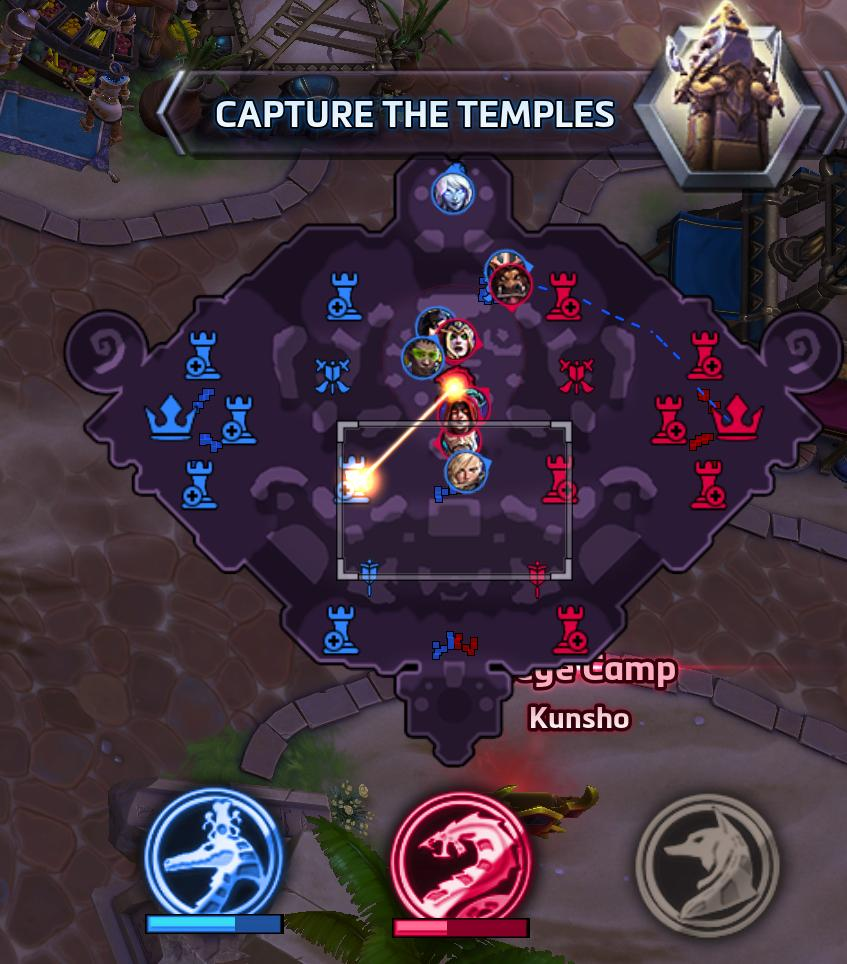blue nexus: (140, 385, 204, 447)
blue player: (430, 163, 475, 214), (443, 447, 489, 493), (400, 334, 444, 379), (415, 306, 453, 341), (485, 250, 527, 281)
blue tower: (328, 454, 375, 506), (322, 599, 360, 658), (217, 395, 258, 446), (180, 457, 219, 510), (183, 329, 222, 381), (325, 269, 363, 321)
red nexus: (708, 392, 765, 441)
red player: (488, 259, 532, 306), (435, 317, 479, 363), (436, 368, 478, 415), (436, 427, 480, 461), (441, 397, 478, 434), (456, 384, 491, 423)
red tower: (687, 457, 727, 510), (649, 394, 689, 447), (685, 329, 724, 382), (544, 270, 582, 322), (541, 453, 578, 505)
